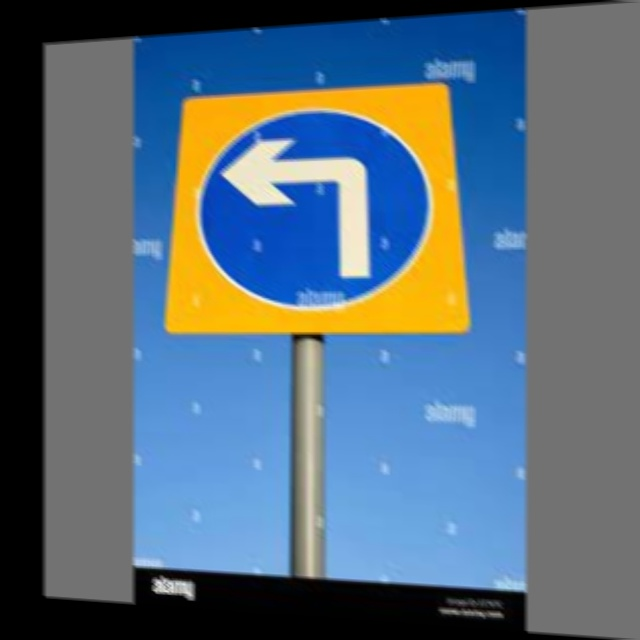Compulsory_Turn_Left_Ahead: (195, 97, 445, 319)
